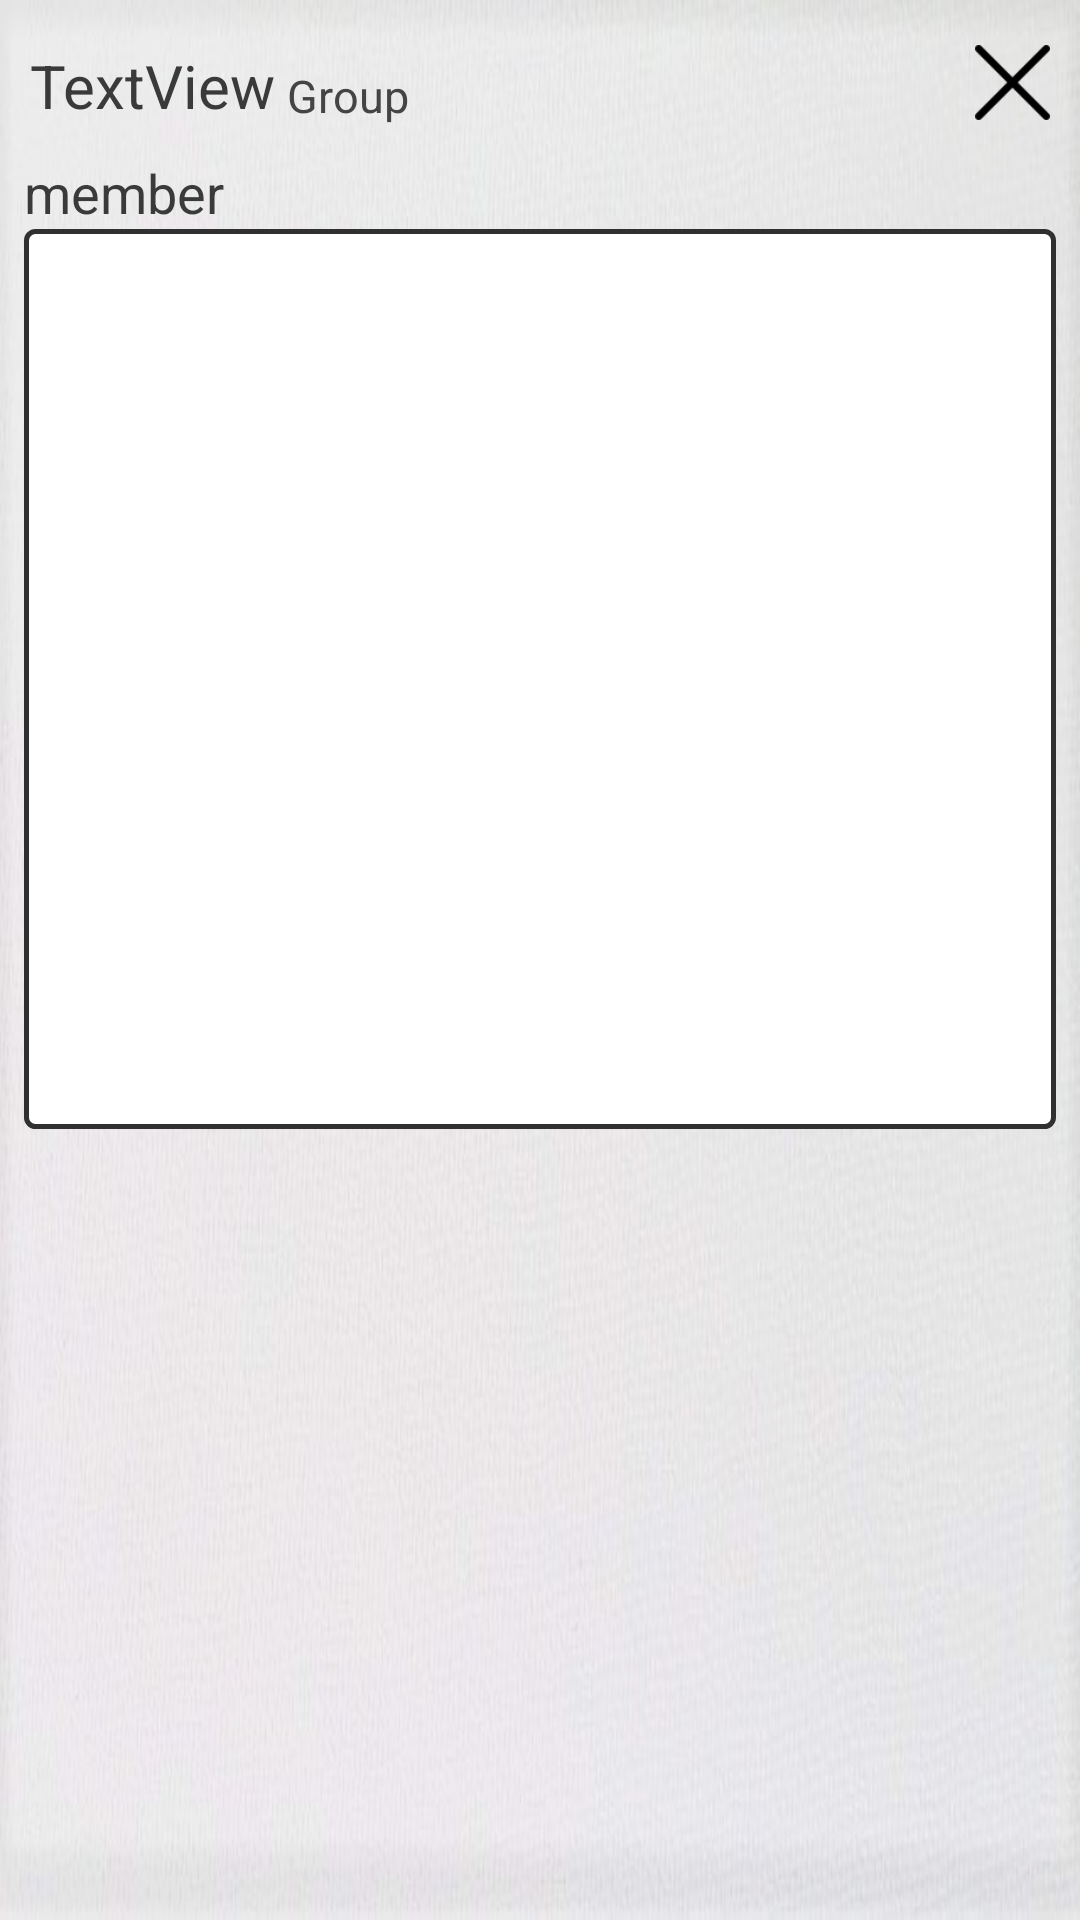

Where icons sit on this 1080 x 1920 app screen, as bbox=(x1, y1, x2, y2):
exit: bbox=(975, 45, 1050, 120)
